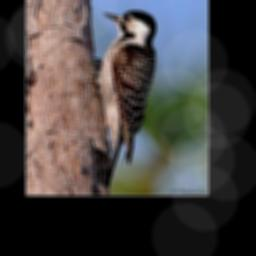Woodpecker: (89, 5, 160, 193)
